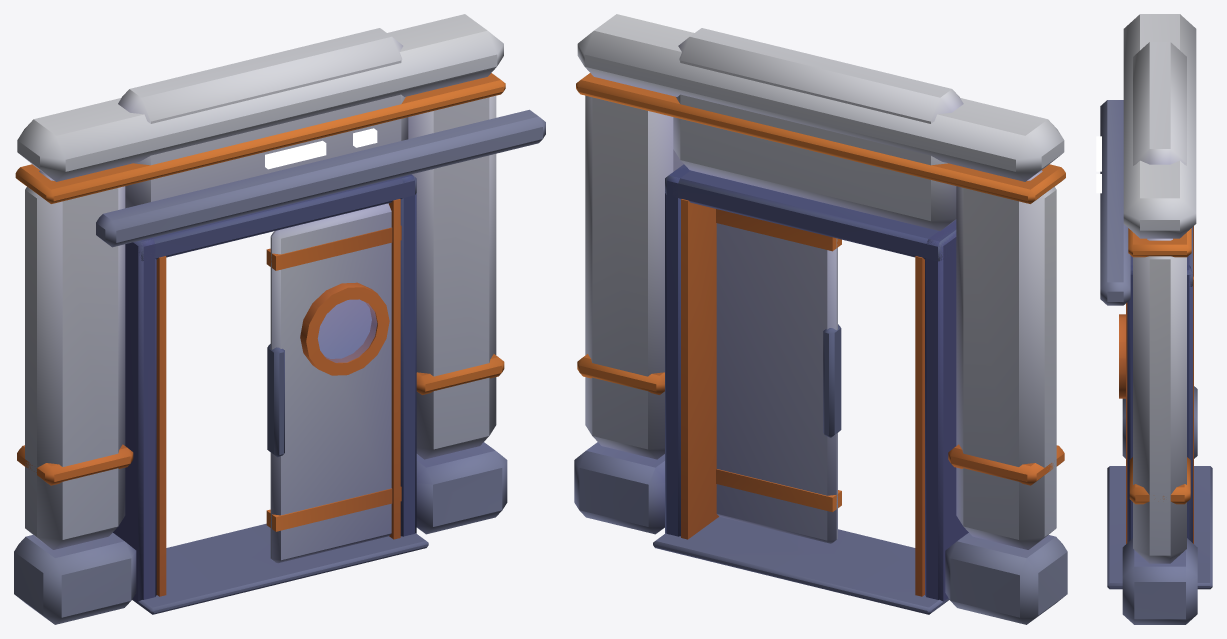
Rendered from hub_ruin_doorway.glb.
The picture shows the model from 3 angles, left to right: view 1: azimuth 30°, elevation 25°; view 2: azimuth 150°, elevation 25°; view 3: azimuth 270°, elevation 25°; orthographic projection. The views are drawn at different scales.
Parts seen in each view (by area): view 1: hub_ruin_doorway; view 2: hub_ruin_doorway; view 3: hub_ruin_doorway.
Boxes of the visible parts, bbox=[...] form: hub_ruin_doorway: bbox=[14, 14, 545, 624]; hub_ruin_doorway: bbox=[574, 14, 1067, 624]; hub_ruin_doorway: bbox=[1096, 14, 1212, 624].
Size of the model in its own units: 4.2 by 4.1 by 0.995.
